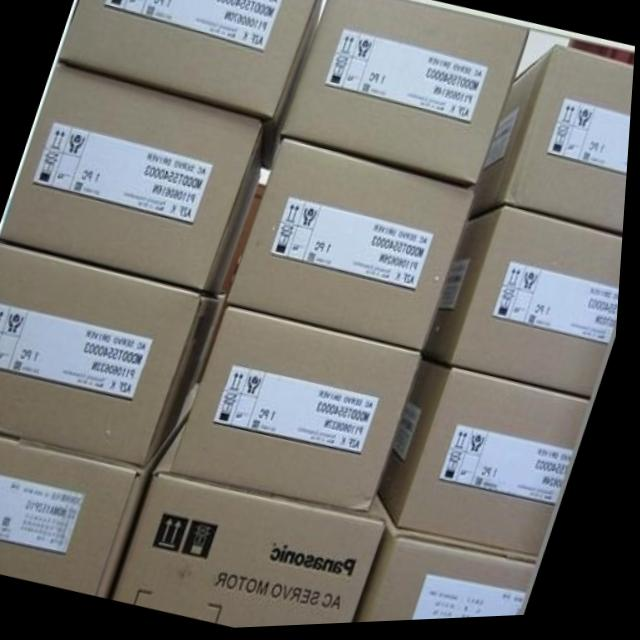box: (3, 62, 264, 296), (118, 422, 393, 630), (230, 143, 482, 356), (0, 237, 229, 470), (175, 304, 427, 515), (279, 0, 532, 191), (59, 0, 322, 172), (383, 360, 595, 562), (426, 207, 626, 402), (0, 411, 196, 599), (471, 47, 635, 236), (362, 497, 547, 626)
